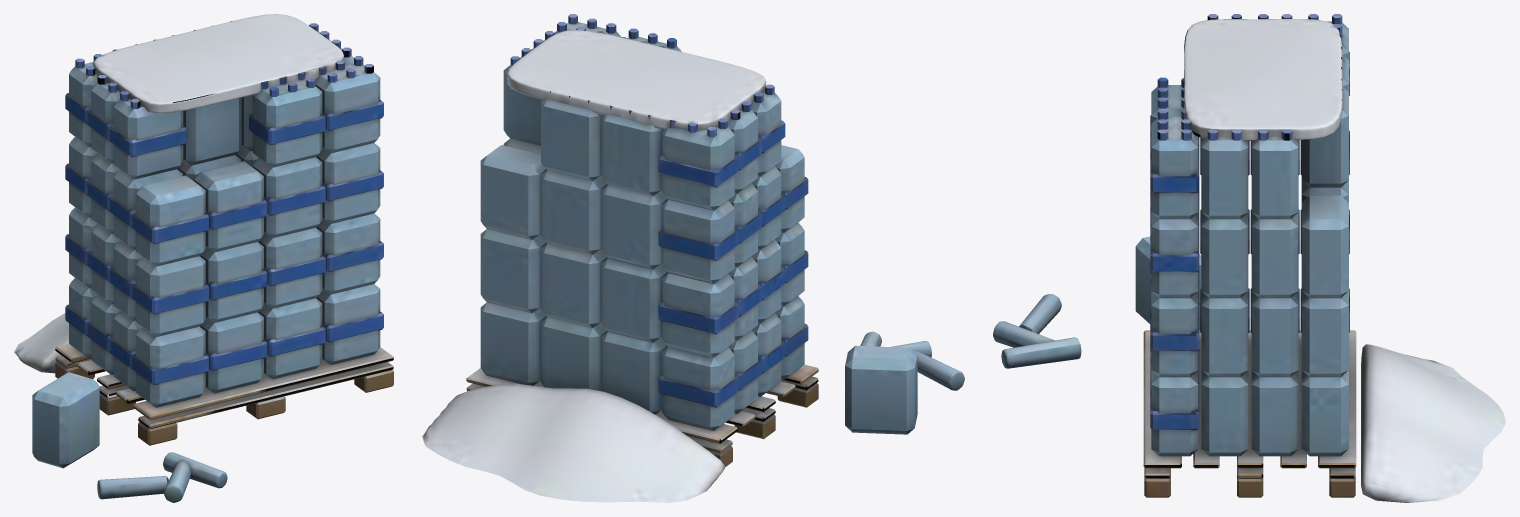
The model's file is aid_water.glb.
3 views of the same model, side by side, from view 1: azimuth 30°, elevation 25°; view 2: azimuth 150°, elevation 25°; view 3: azimuth 270°, elevation 25° (orthographic). The views are drawn at different scales.
Visible parts, largest first — view 1: aid_water; view 2: aid_water; view 3: aid_water.
Part boxes in pixels (<box>): aid_water: <box>14,14,393,502</box>; aid_water: <box>422,14,964,502</box>; aid_water: <box>993,14,1505,502</box>.
Bounding box in the file's own units: 1.75 × 1.51 × 1.94.
1 material, 1 textured.
